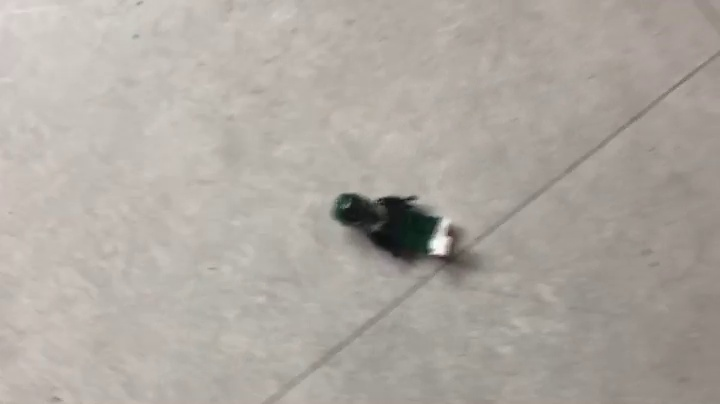people: (331, 192, 456, 265)
